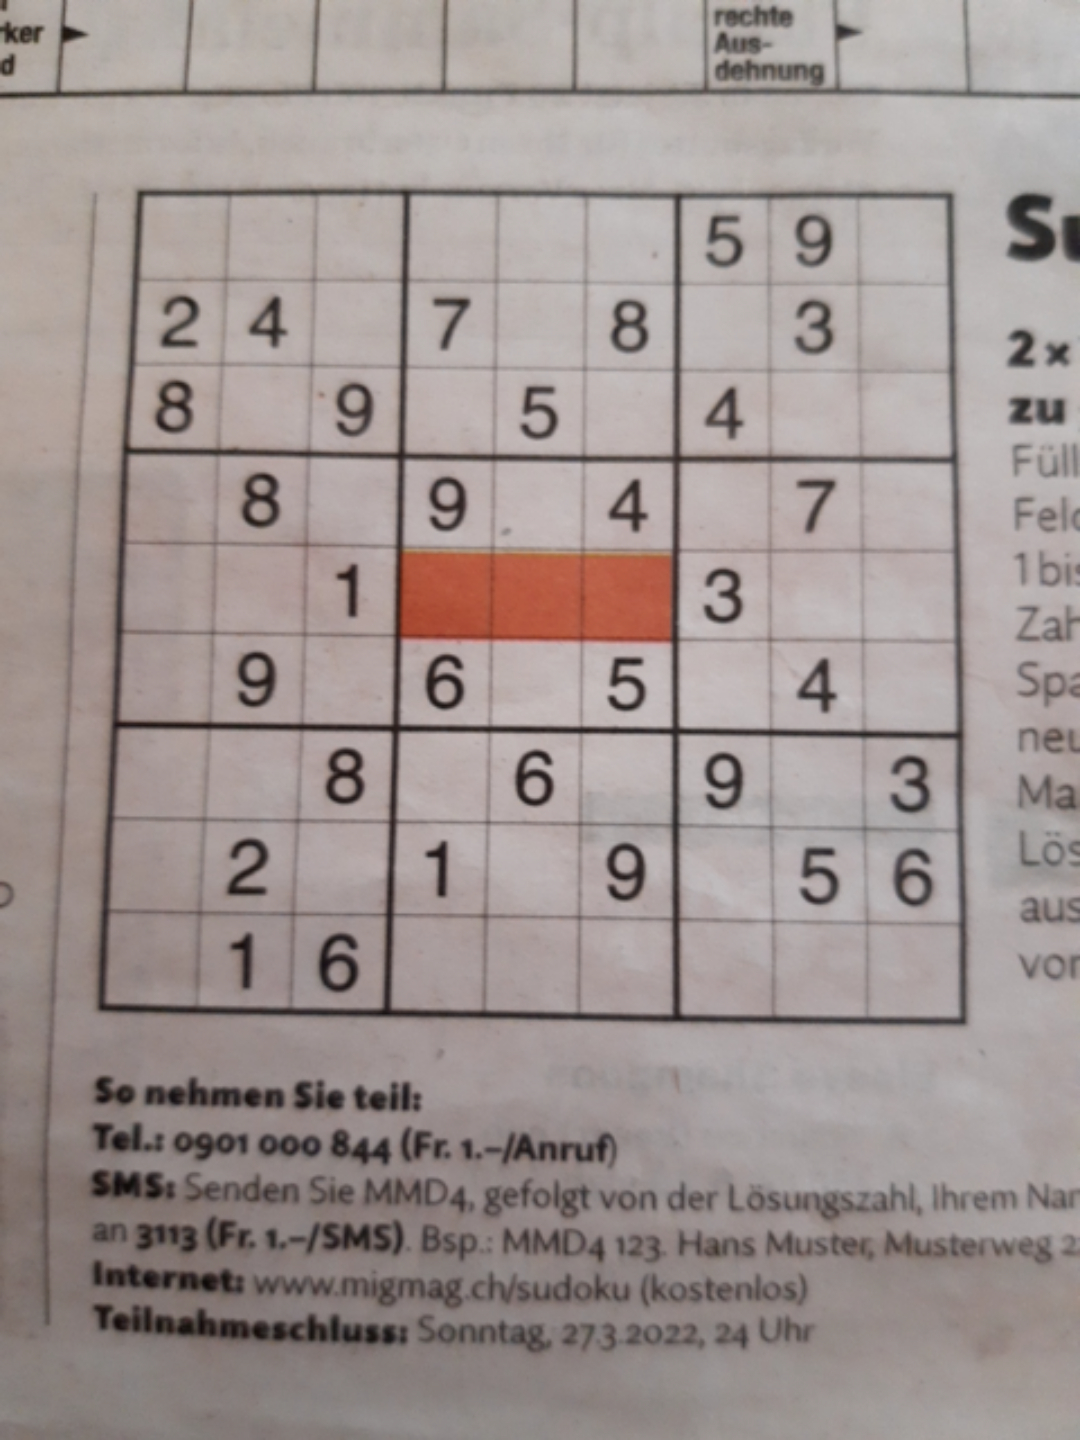sudoku: (93, 182, 972, 1029)
